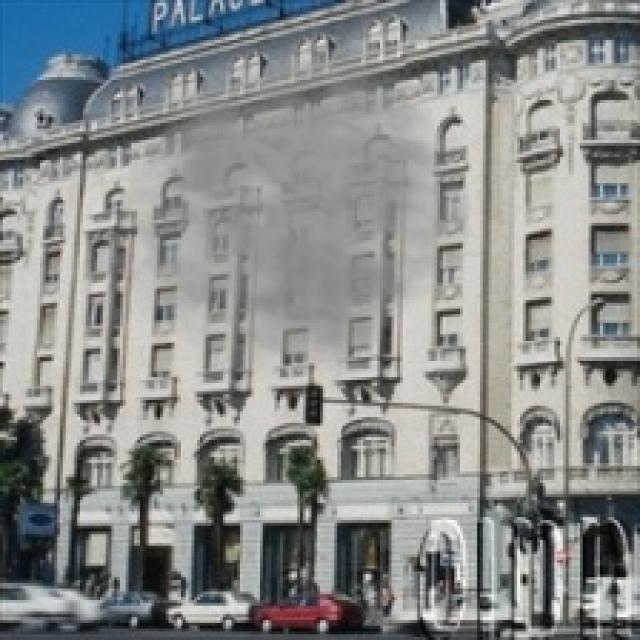smoke: (89, 40, 474, 397)
